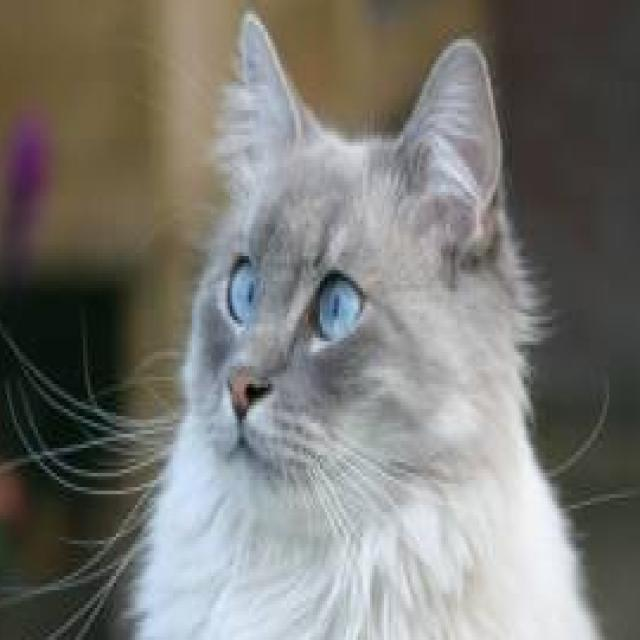Ragdoll: (113, 3, 621, 640)
